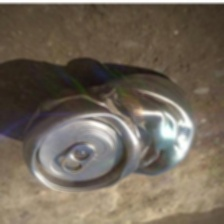can: (15, 68, 205, 202)
